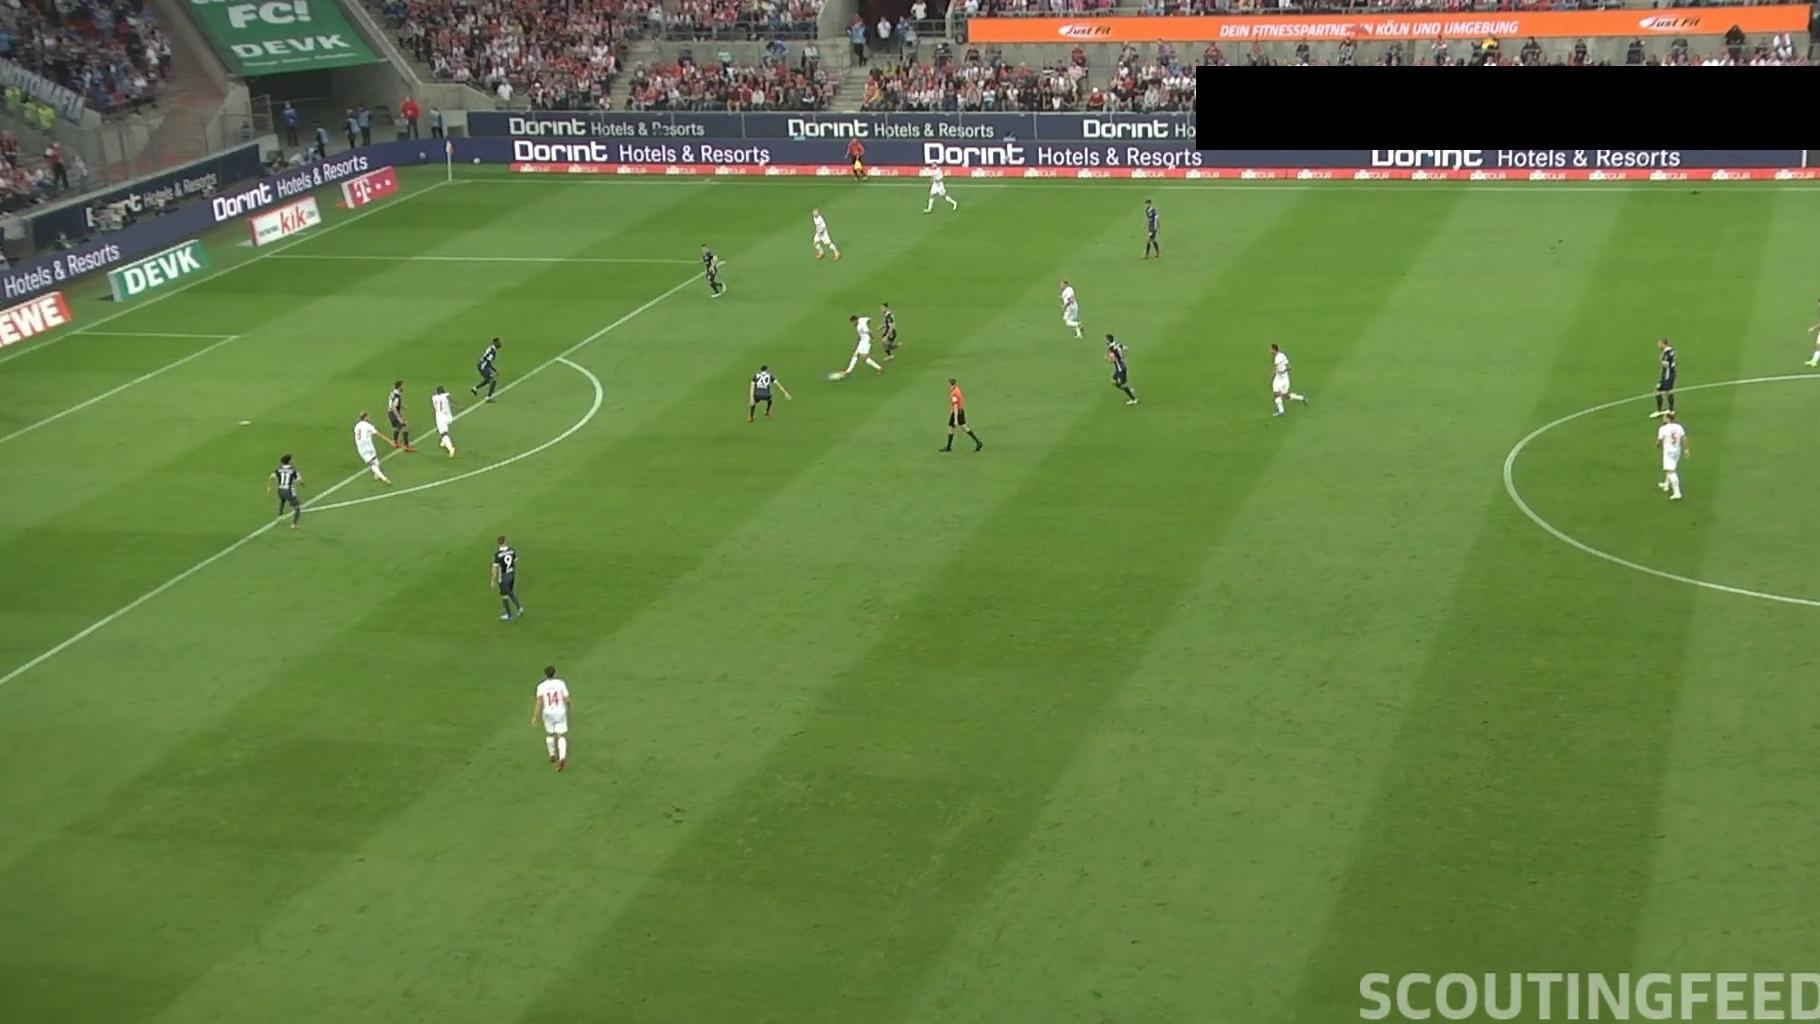ball: (826, 369, 845, 384)
